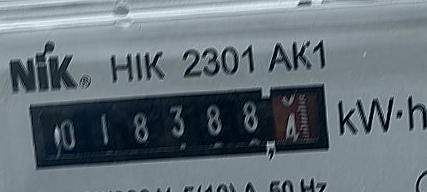0: (57, 115, 79, 152)
1: (95, 109, 114, 147)
3: (167, 103, 189, 139)
4: (281, 109, 303, 143)
8: (239, 97, 262, 134), (130, 108, 152, 145), (203, 102, 225, 138)
screen: (21, 74, 343, 180)
